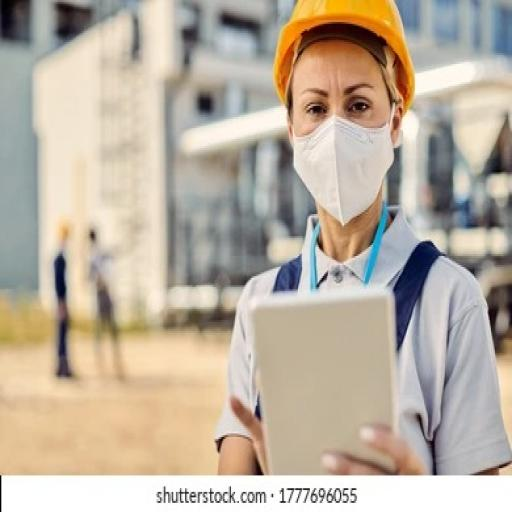mask: (286, 120, 390, 216)
